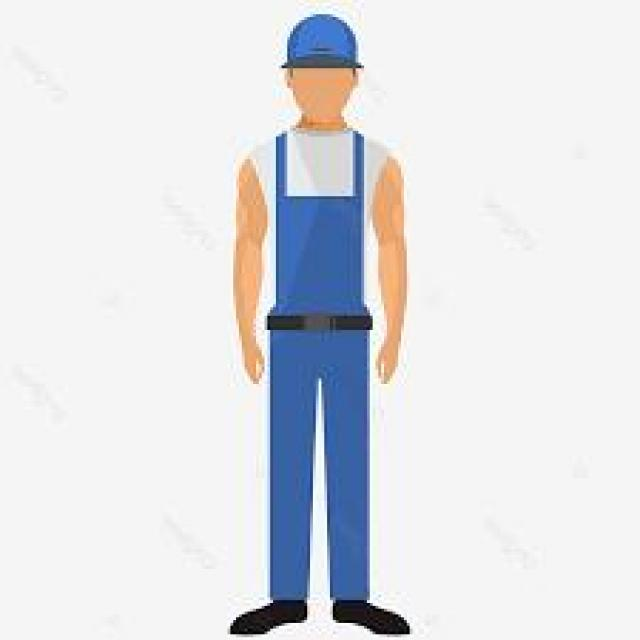Safety-Helmet: (276, 11, 370, 77)
